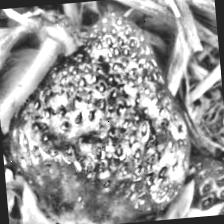Anthracnose Fruit Rot: (7, 22, 195, 204)
